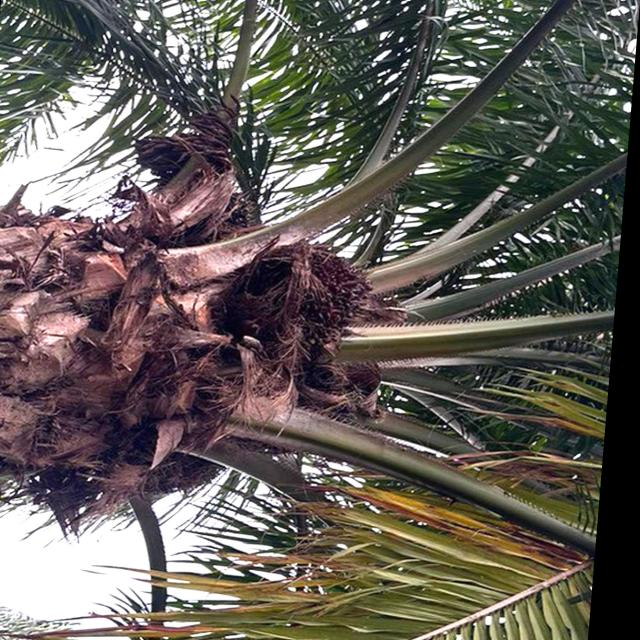ripe: (239, 232, 384, 373)
